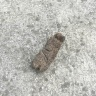Dog: (33, 32, 65, 70)
